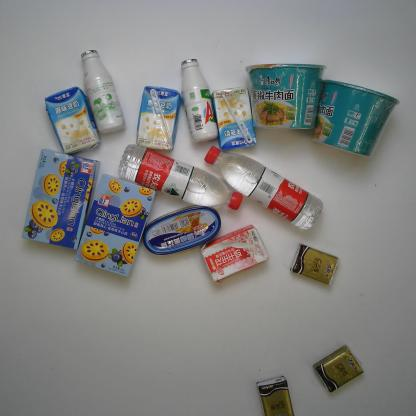Canned Food: (144, 204, 221, 254)
Dessert: (73, 175, 155, 277), (20, 150, 98, 250)
Drink: (204, 146, 324, 228), (117, 145, 246, 214)
Instant Noodles: (309, 77, 397, 158), (247, 62, 324, 130)
Milk: (199, 224, 268, 284), (78, 48, 126, 132), (45, 84, 99, 152), (181, 57, 222, 143), (213, 86, 262, 152), (135, 84, 181, 152)
Tissue: (311, 344, 362, 394), (292, 244, 340, 283), (256, 374, 296, 412)
